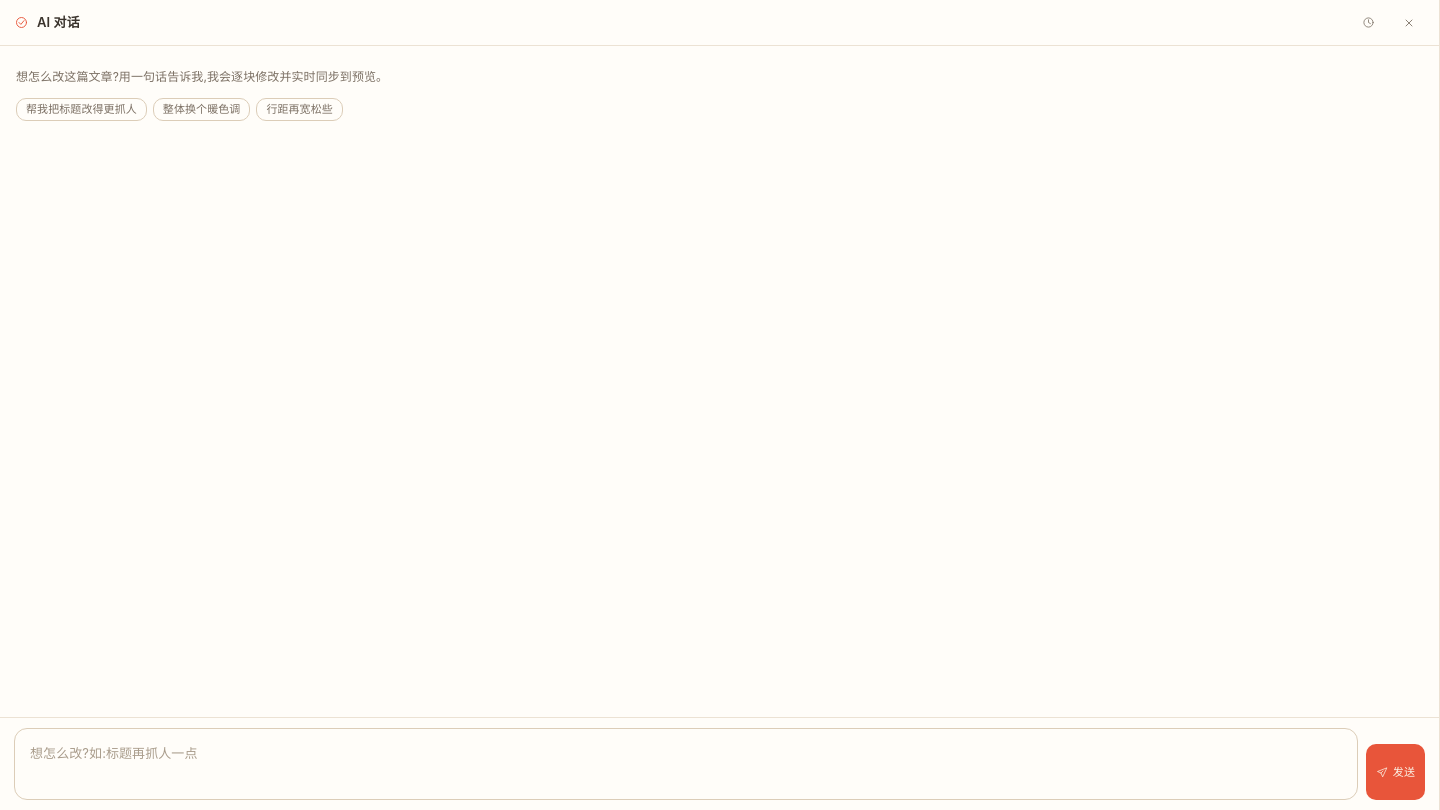
Test: ChatPanel — 历史版本 › 加载失败 → 列表层内出错误文案(面板不关闭)
Click the button named "历史版本": (1368, 22) top-left (1352, 10), bottom-right (1385, 35)
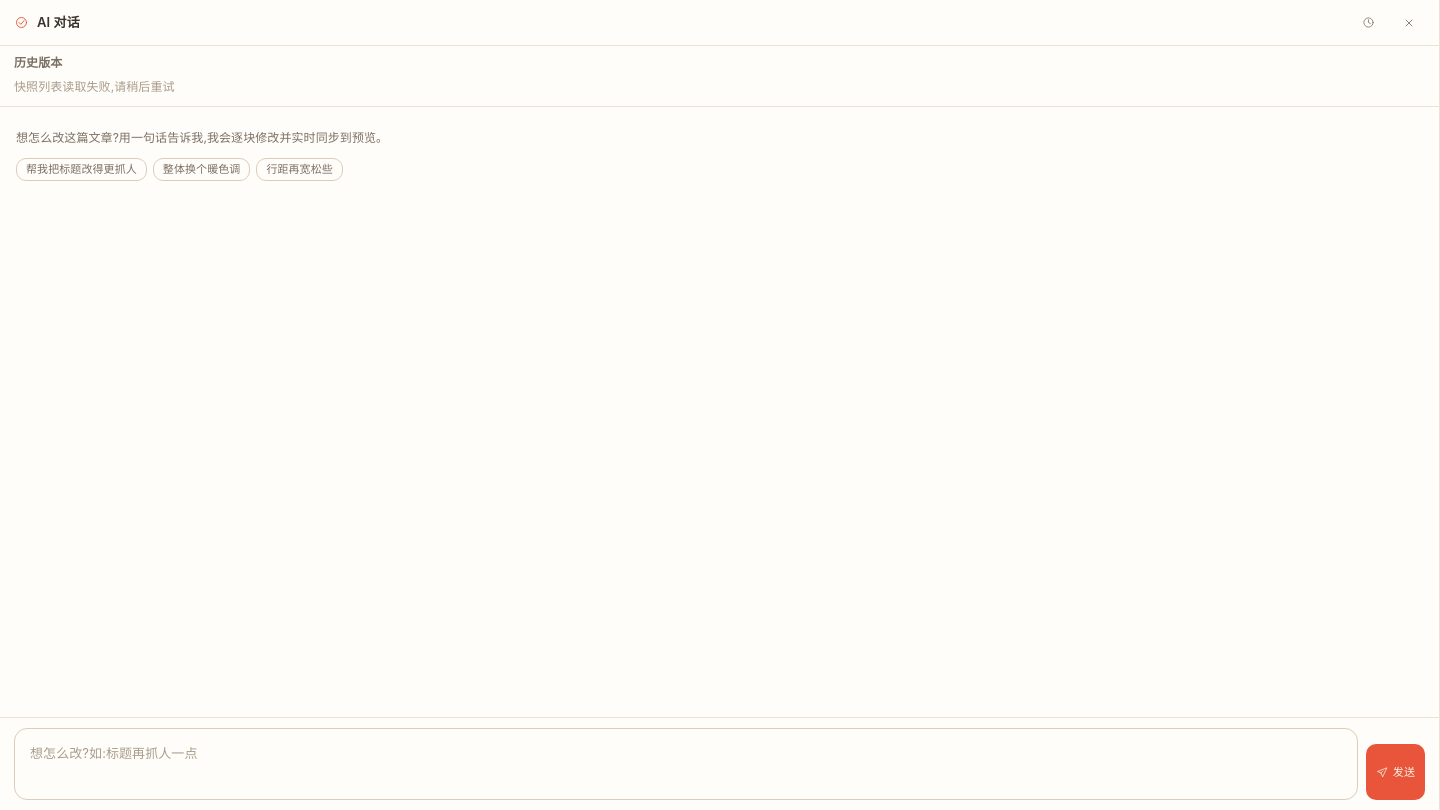
Now the text "快照列表读取失败,请稍后重试" is shown, box top-left (14, 79), bottom-right (175, 94)
Now the element with test id "chat-history" is shown, box top-left (0, 46), bottom-right (1439, 107)
